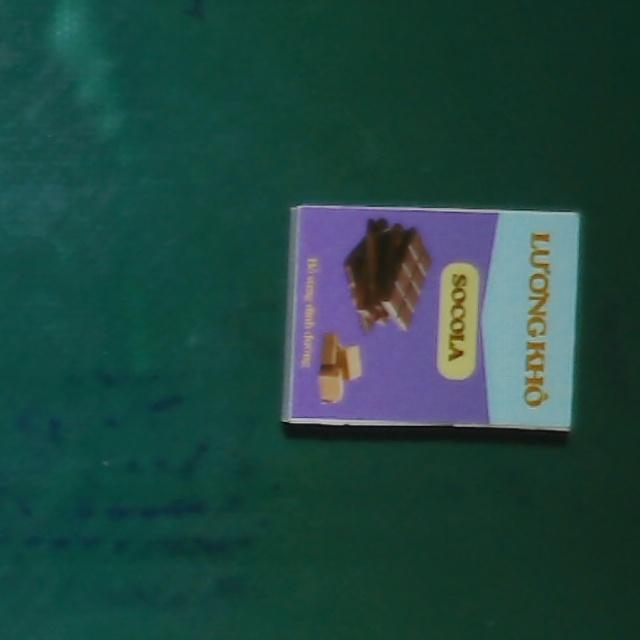socola: (283, 205, 581, 431)
